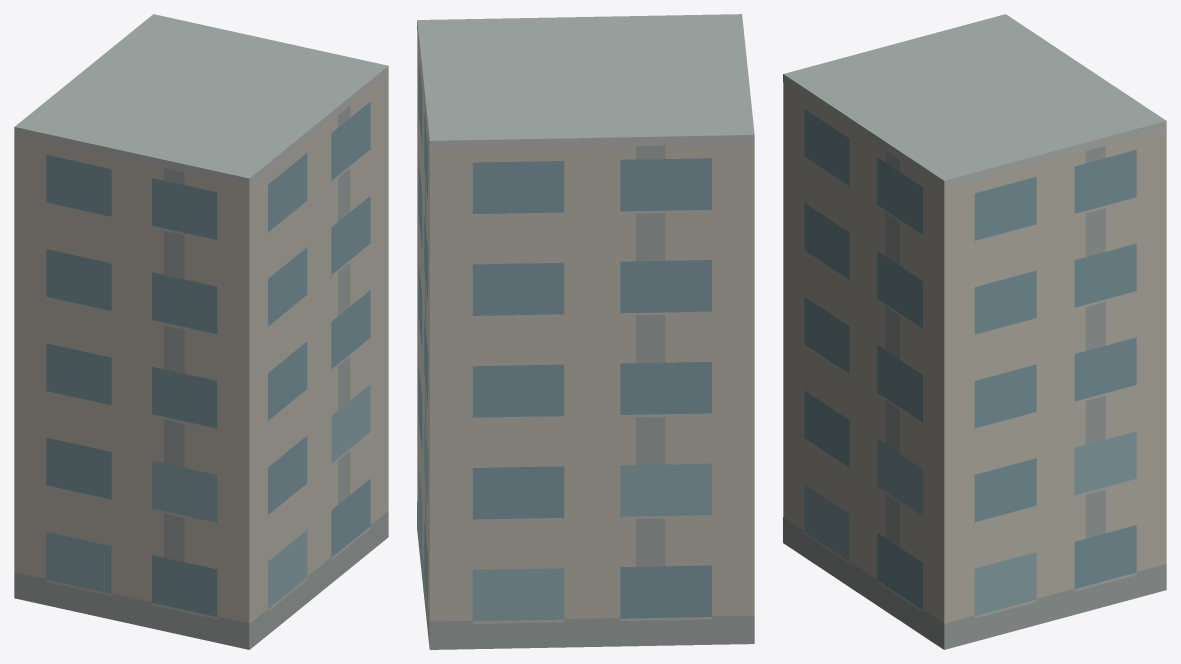
Rendered from residential-26b55773-acb6-4260-84ec-e1f7cfeffcac.glb.
3 renders of one model, left to right at view 1: azimuth 30°, elevation 25°; view 2: azimuth 150°, elevation 25°; view 3: azimuth 270°, elevation 25°, orthographic. The views are drawn at different scales.
Parts seen in each view (by area): view 1: residential-26b55773-acb6-4260-84ec-e1f7cfeffcac.tmp; view 2: residential-26b55773-acb6-4260-84ec-e1f7cfeffcac.tmp; view 3: residential-26b55773-acb6-4260-84ec-e1f7cfeffcac.tmp.
Part boxes in pixels (box(x1,y1,x2,y2)): residential-26b55773-acb6-4260-84ec-e1f7cfeffcac.tmp: box(14, 14, 388, 649); residential-26b55773-acb6-4260-84ec-e1f7cfeffcac.tmp: box(417, 14, 754, 649); residential-26b55773-acb6-4260-84ec-e1f7cfeffcac.tmp: box(783, 14, 1166, 649).
Bounding box in the file's own units: 10.3 × 13.5 × 10.01.
